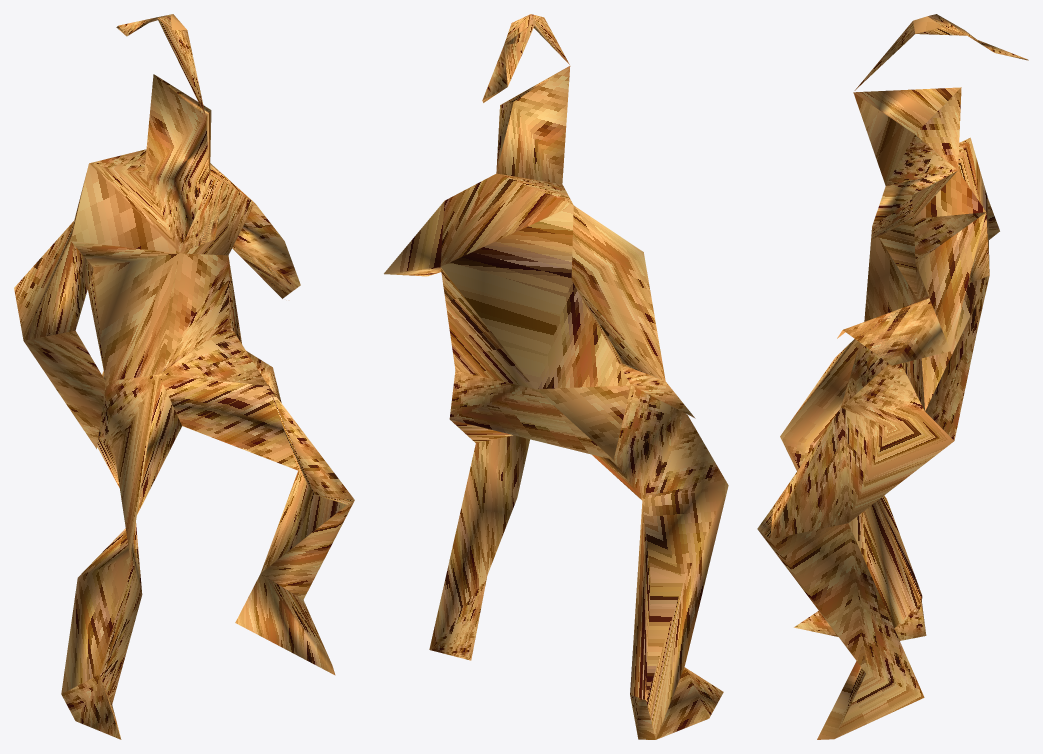
The model's file is ae_knight_rider_bronze_lod2.glb.
3 renders of one model, left to right at view 1: azimuth 30°, elevation 25°; view 2: azimuth 150°, elevation 25°; view 3: azimuth 270°, elevation 25°, orthographic. The views are drawn at different scales.
Parts seen in each view (by area): view 1: output_unwrapped; view 2: output_unwrapped; view 3: output_unwrapped.
Part boxes in pixels (x1,y1,x2,y2): output_unwrapped: (14, 14, 354, 739); output_unwrapped: (384, 14, 728, 739); output_unwrapped: (757, 14, 1028, 739).
Size of the model in its own units: 0.7999 by 1.9 by 0.6969.
1 material, 1 textured.
